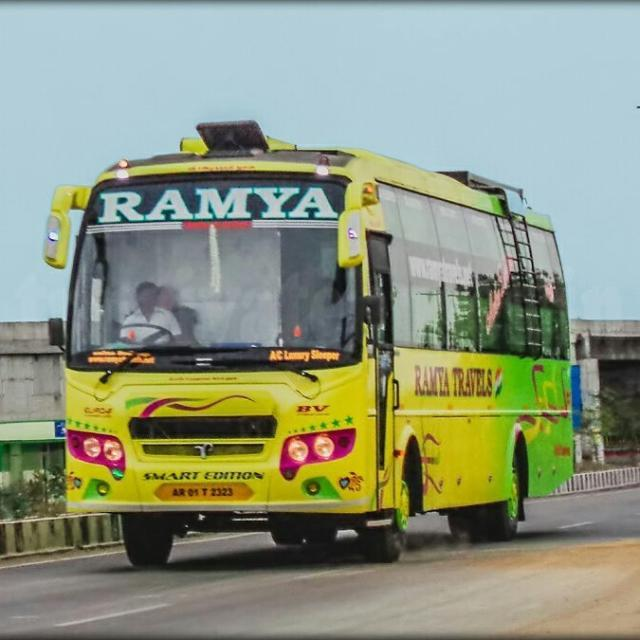Bus: (39, 115, 574, 568)
